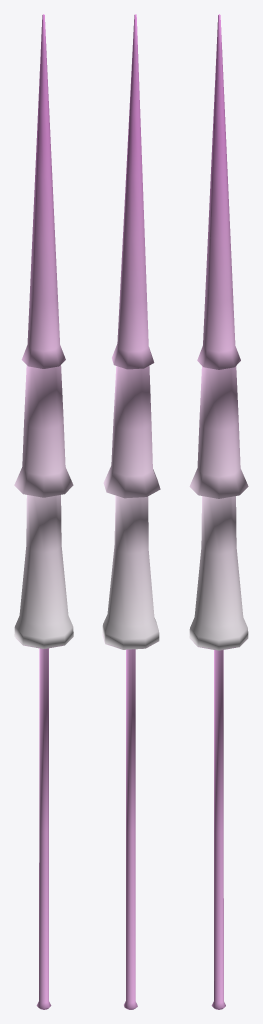
File: lance.fbx
3 renders of one model, left to right at view 1: azimuth 90°, elevation 25°; view 2: azimuth 210°, elevation 25°; view 3: azimuth 270°, elevation 25°, orthographic.
Visible parts, largest first — view 1: Lance; view 2: Lance; view 3: Lance.
Boxes of the visible parts, <box> form: Lance: <box>14,14,73,1009</box>; Lance: <box>102,14,160,1009</box>; Lance: <box>189,14,248,1009</box>.
Size of the model in its own units: 25.1 by 455 by 24.6.
